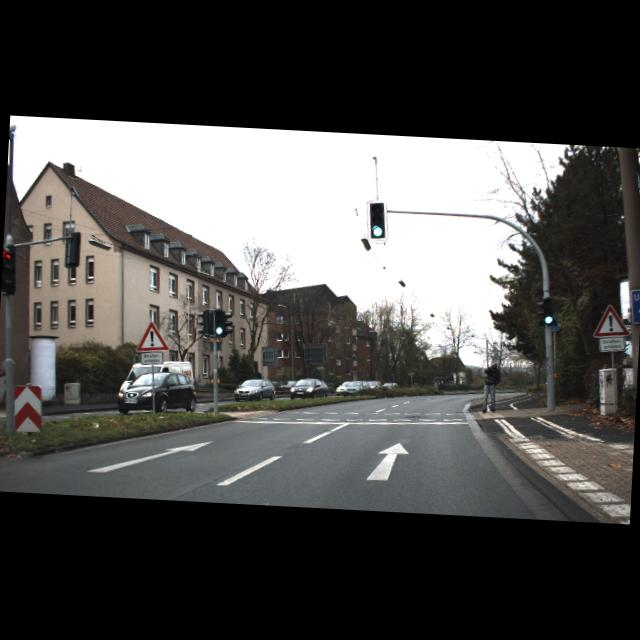danger: (594, 304, 632, 339), (136, 320, 170, 353)
